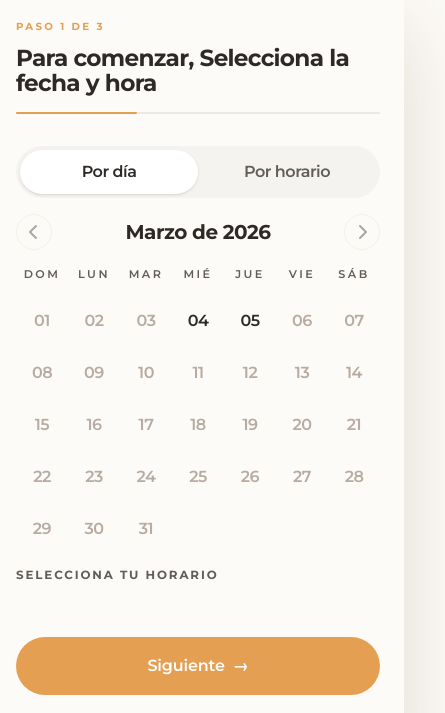
Test: booking wizard › validates schedule step before continuing
Click the button "Siguiente →" at x=198, y=666, box [16,637,380,695]
(page scrolled)
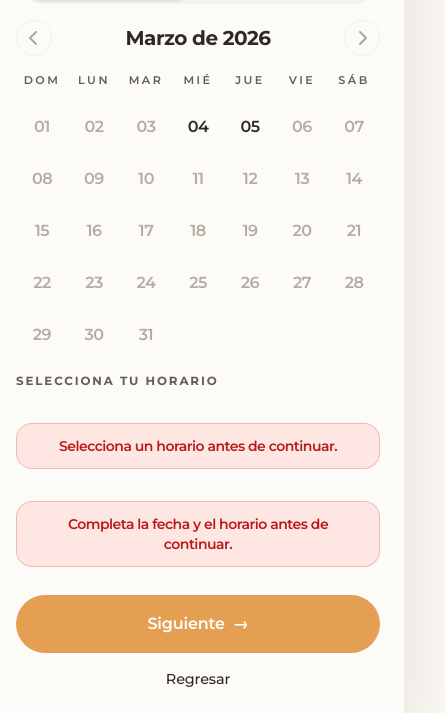
Expected: the text "Selecciona un horario antes de continuar." is shown, [16,423,380,469]
